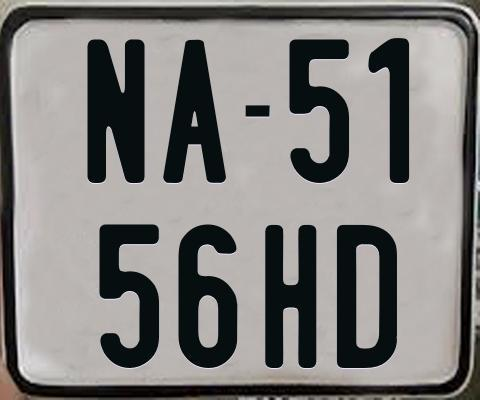1: (368, 38, 414, 185)
5: (96, 221, 158, 369), (288, 37, 350, 181)
6: (176, 222, 239, 372)
A: (160, 40, 223, 186)
D: (334, 224, 398, 371)
H: (265, 223, 322, 367)
N: (84, 37, 142, 182)
